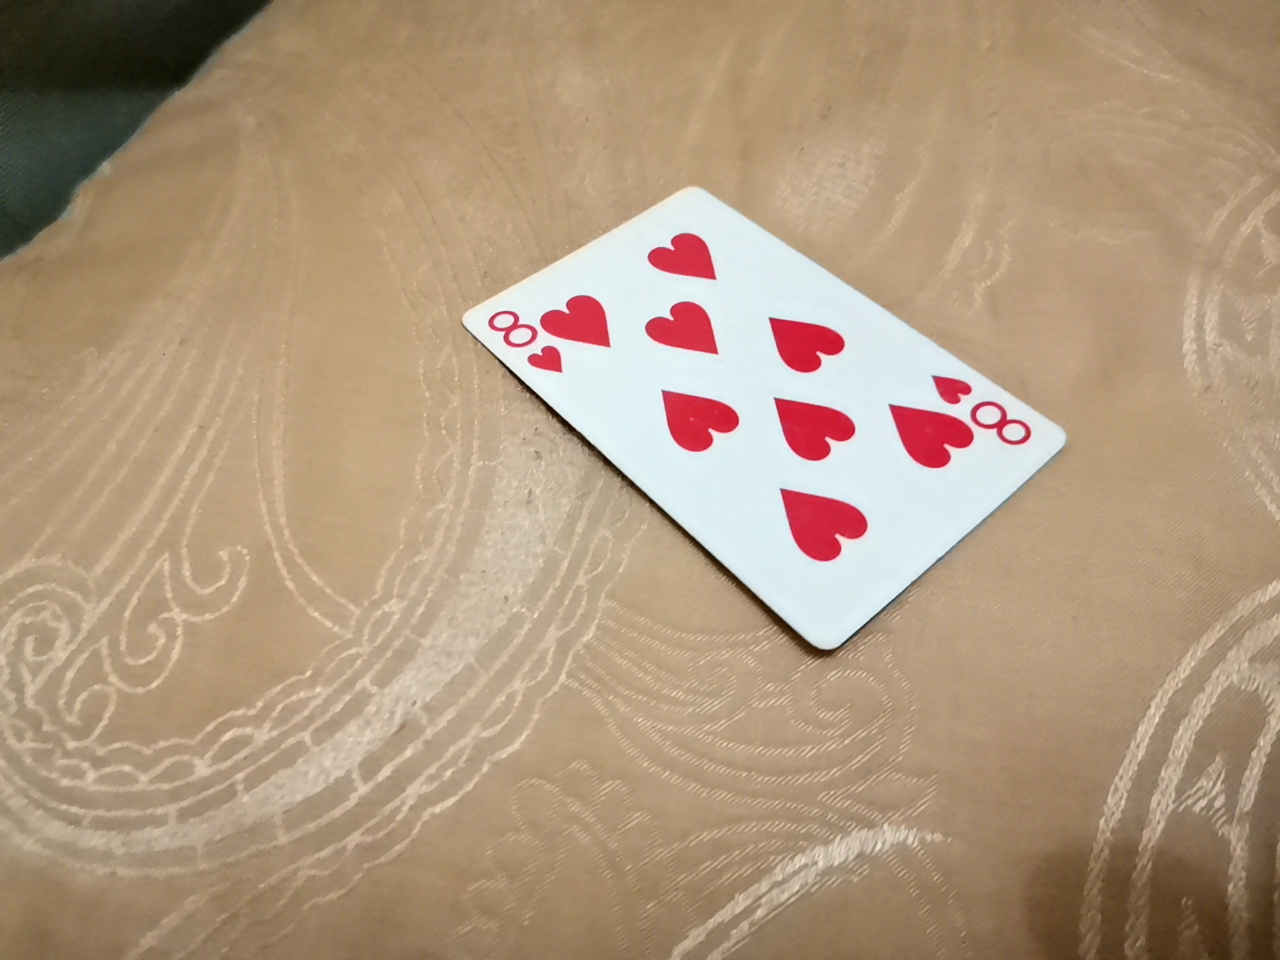hx 8: (453, 179, 1072, 648)
